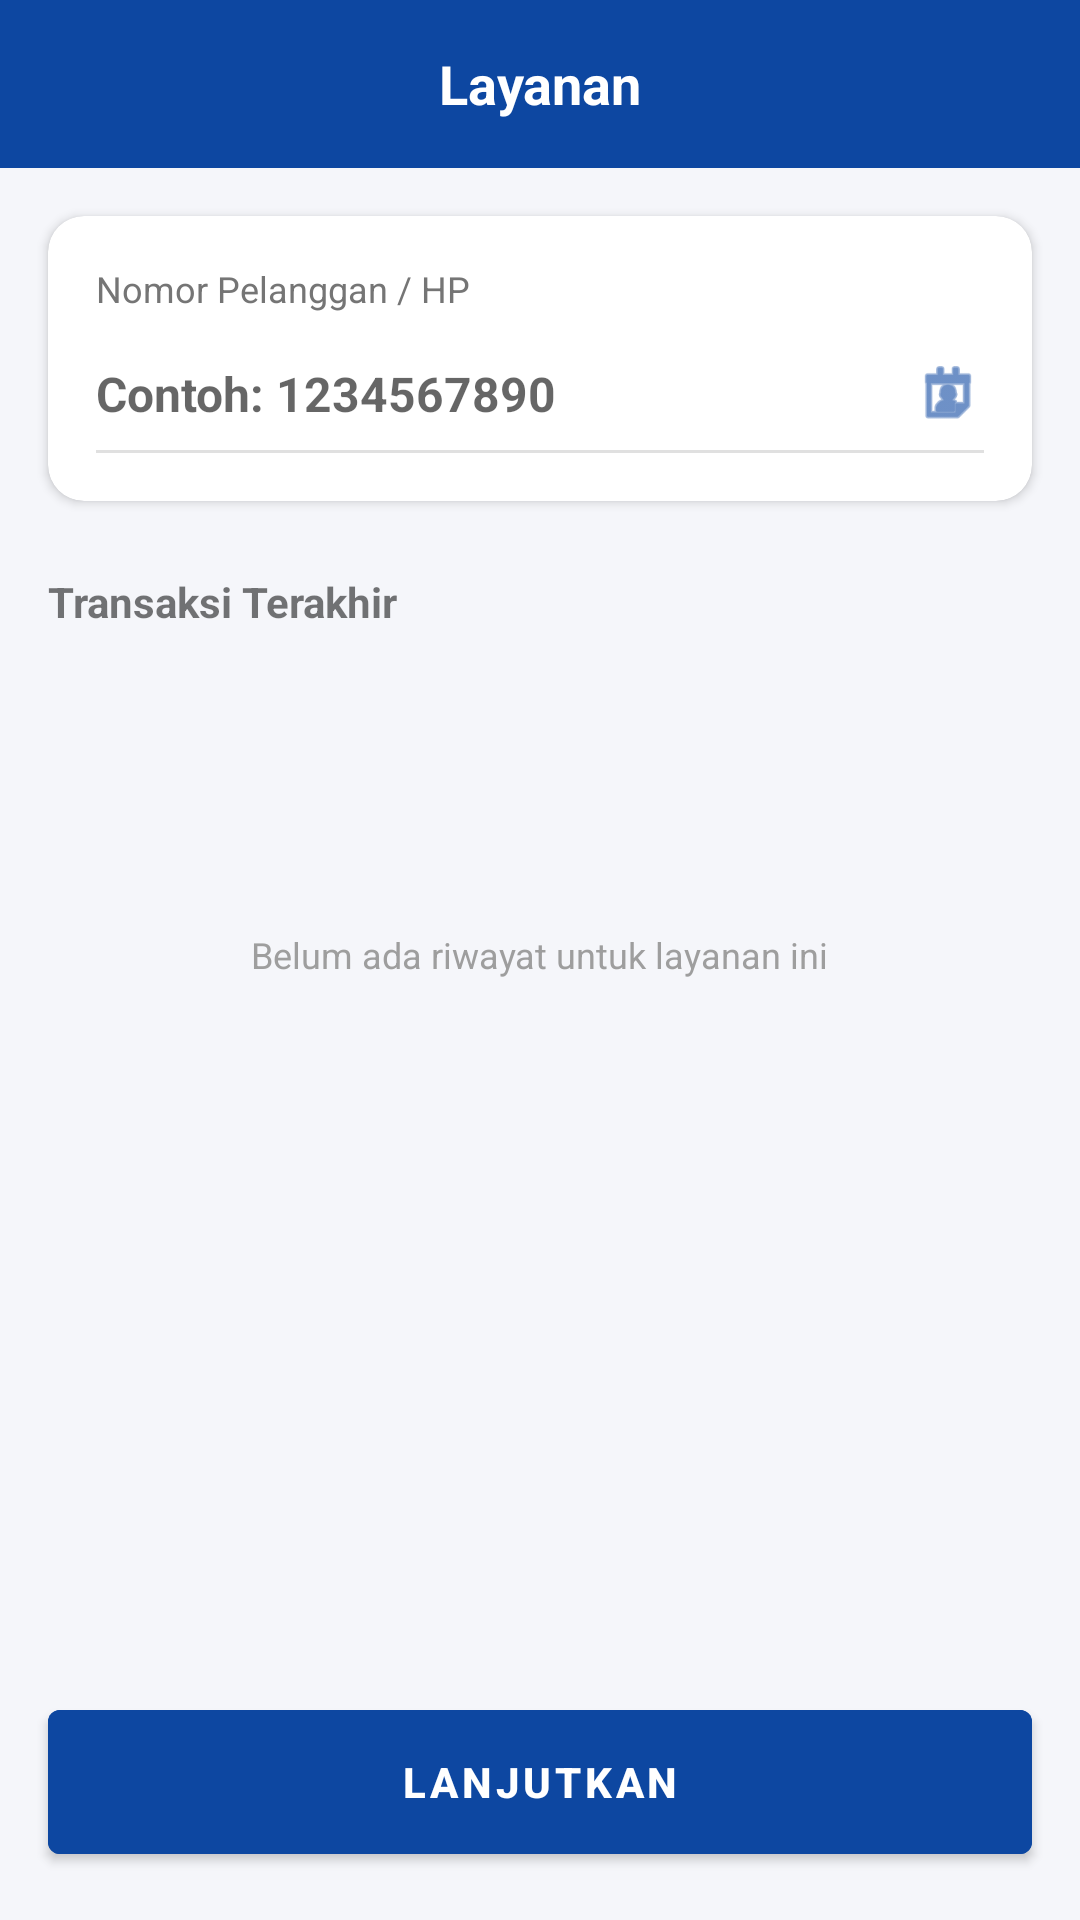

Point at icon controls on the screen. Image size 1080×1920, points as point (x, y).
calendar: point (948, 392)
